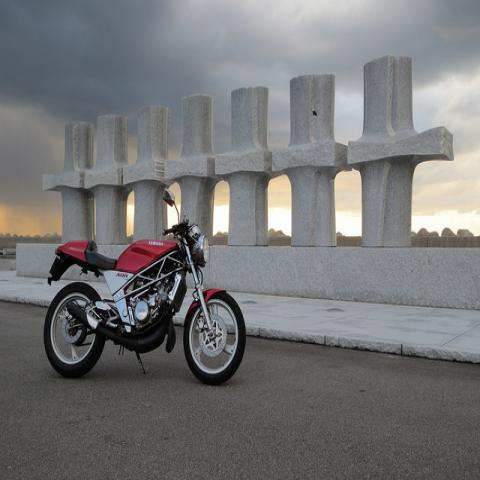motorcycle: (44, 180, 248, 387)
